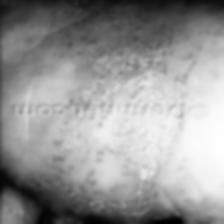Unclassified: (41, 120, 188, 206), (54, 37, 196, 101)
